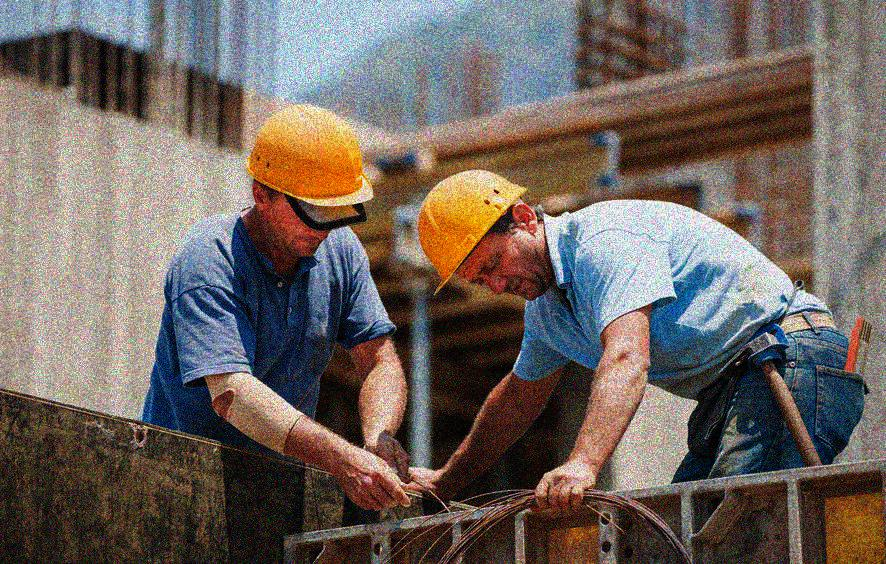helmet: (246, 103, 373, 265), (419, 168, 549, 307)
